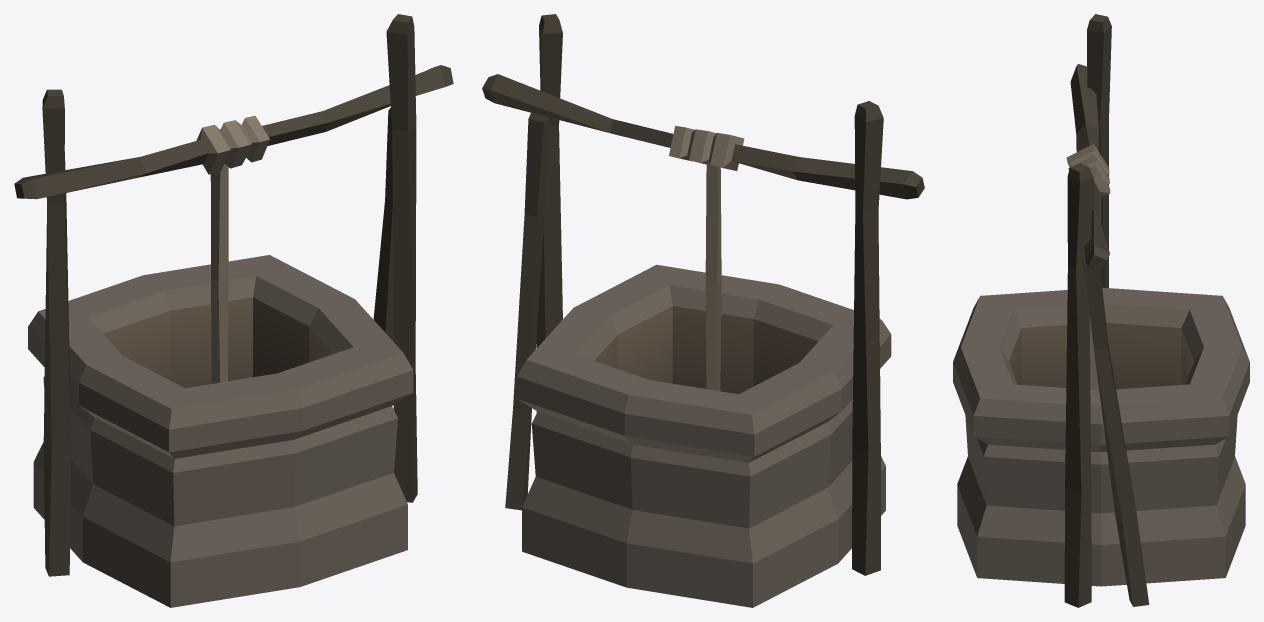
The model's file is SM_Prop_Well_01.glb.
3 renders of one model, left to right at view 1: azimuth 30°, elevation 25°; view 2: azimuth 150°, elevation 25°; view 3: azimuth 270°, elevation 25°, orthographic. The views are drawn at different scales.
Parts seen in each view (by area): view 1: SM_Prop_Well_01; view 2: SM_Prop_Well_01; view 3: SM_Prop_Well_01.
Boxes of the visible parts, x1,y1,x2,y2 form: SM_Prop_Well_01: [14, 14, 453, 607]; SM_Prop_Well_01: [482, 14, 924, 607]; SM_Prop_Well_01: [953, 14, 1249, 607].
Bounding box in the file's own units: 0.0205 × 0.0214 × 0.0132.
